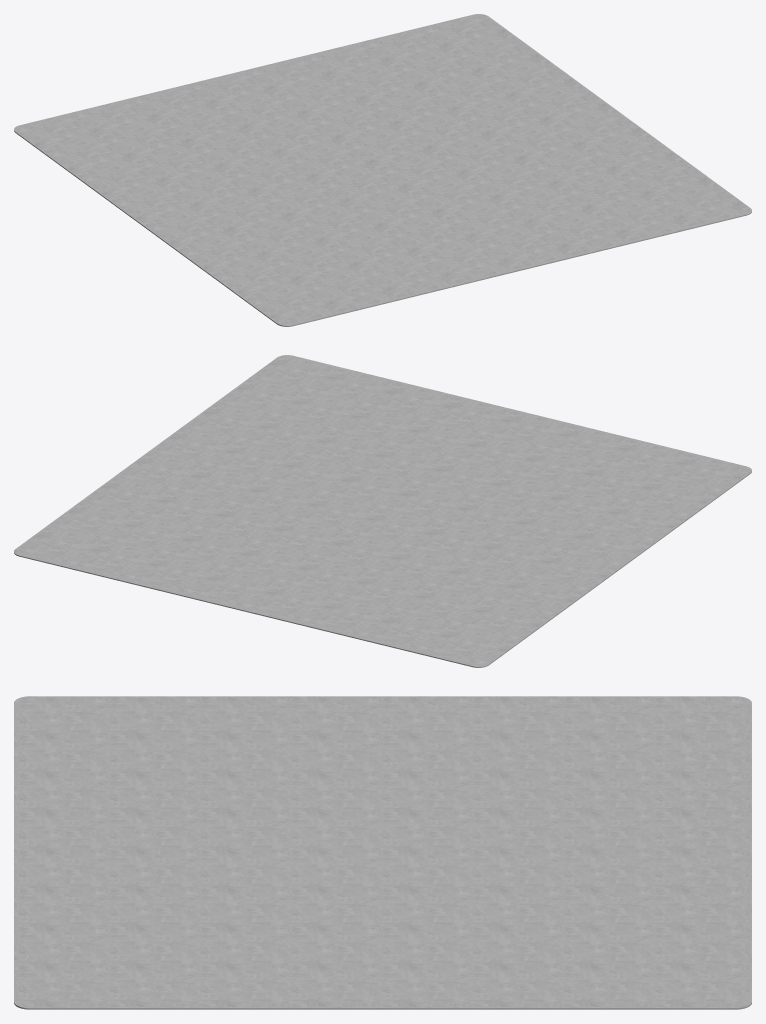
The model's file is sidewalk.fbx.
3 views of the same model, one above another, from view 1: azimuth 30°, elevation 25°; view 2: azimuth 150°, elevation 25°; view 3: azimuth 270°, elevation 25° (orthographic). The views are drawn at different scales.
Parts seen in each view (by area): view 1: Cube; view 2: Cube; view 3: Cube.
Part boxes in pixels (x1,y1,x2,y2): Cube: (14, 14, 751, 326); Cube: (14, 355, 751, 667); Cube: (14, 696, 751, 1009).
Bounding box in the file's own units: 7000 × 15 × 7000.
